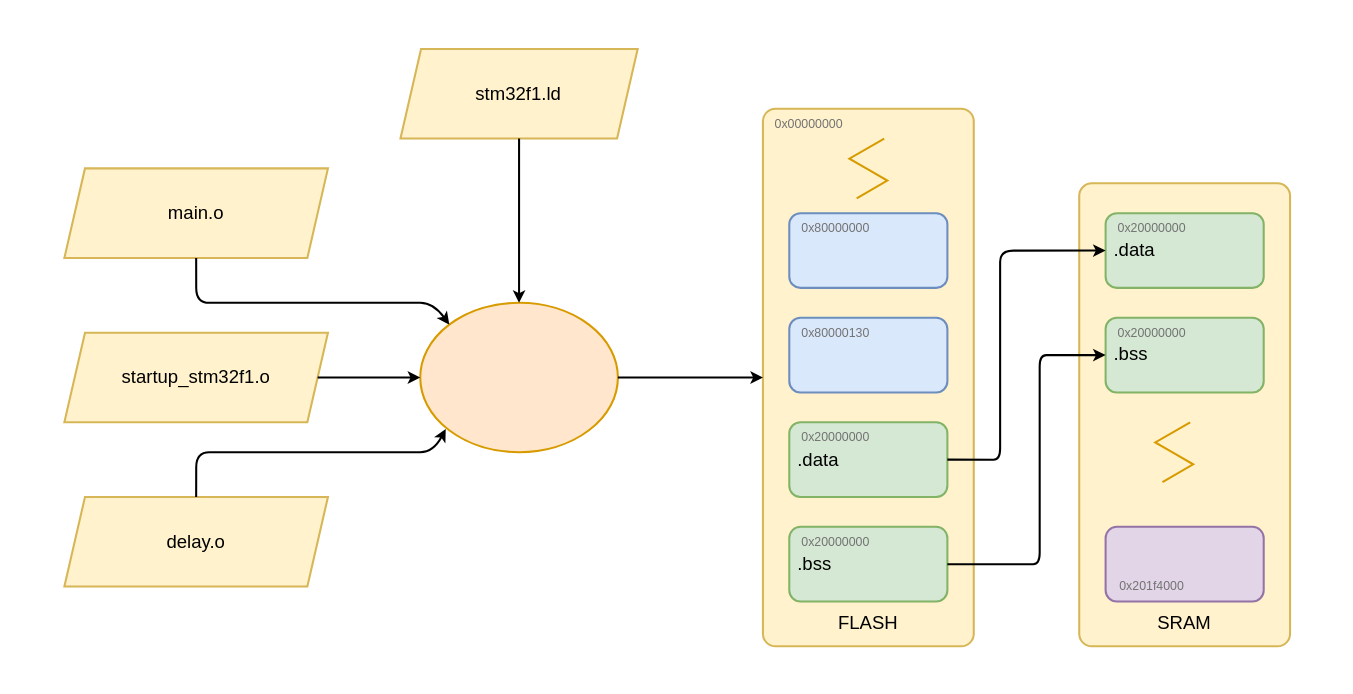
Some shapes in this 1353 by 694 pixel diagram are drawn without their labels. Here are the shapes that lost their labels. From the top down, the box of each, then its label:
(788, 212, 948, 288): .isr_vector
(788, 316, 948, 393): .text
(419, 301, 618, 453): Linker & Relocator
(1104, 525, 1264, 602): .stack
